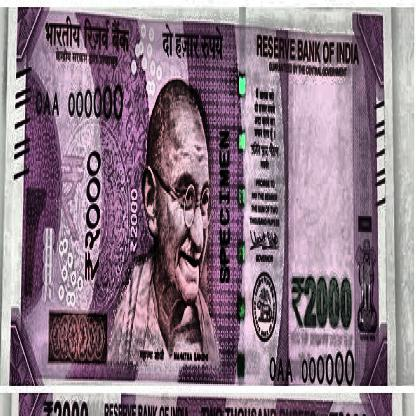Rs2000: (288, 257, 358, 343)
